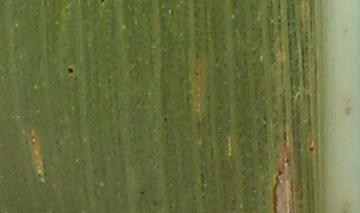tarspot: (65, 66, 76, 76), (163, 113, 170, 125), (138, 189, 147, 198), (307, 145, 315, 154)
